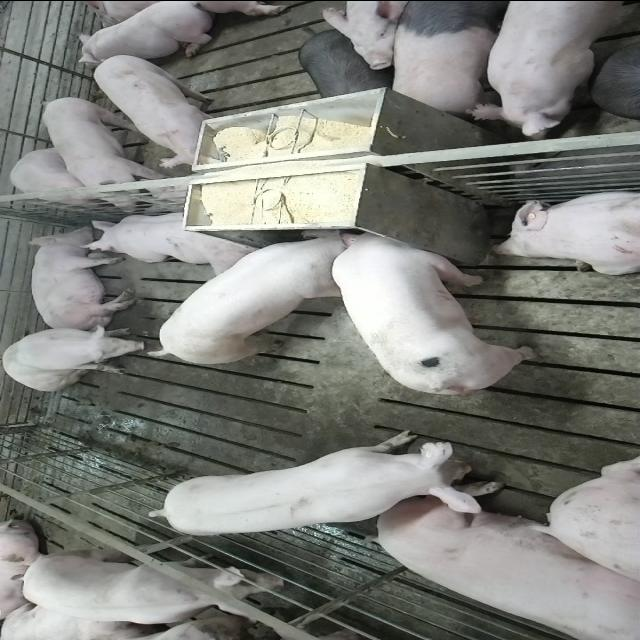Feeding: (331, 220, 538, 390), (144, 230, 360, 366)
Lateral_lying: (23, 223, 137, 331)
Sitting: (2, 320, 147, 390)
Standing: (146, 432, 488, 538), (10, 544, 299, 631), (470, 1, 640, 140), (92, 52, 235, 166), (384, 2, 515, 122), (39, 95, 164, 208), (590, 33, 640, 117)
Sternal_lying: (492, 186, 640, 274), (82, 208, 262, 272), (73, 2, 221, 60)
